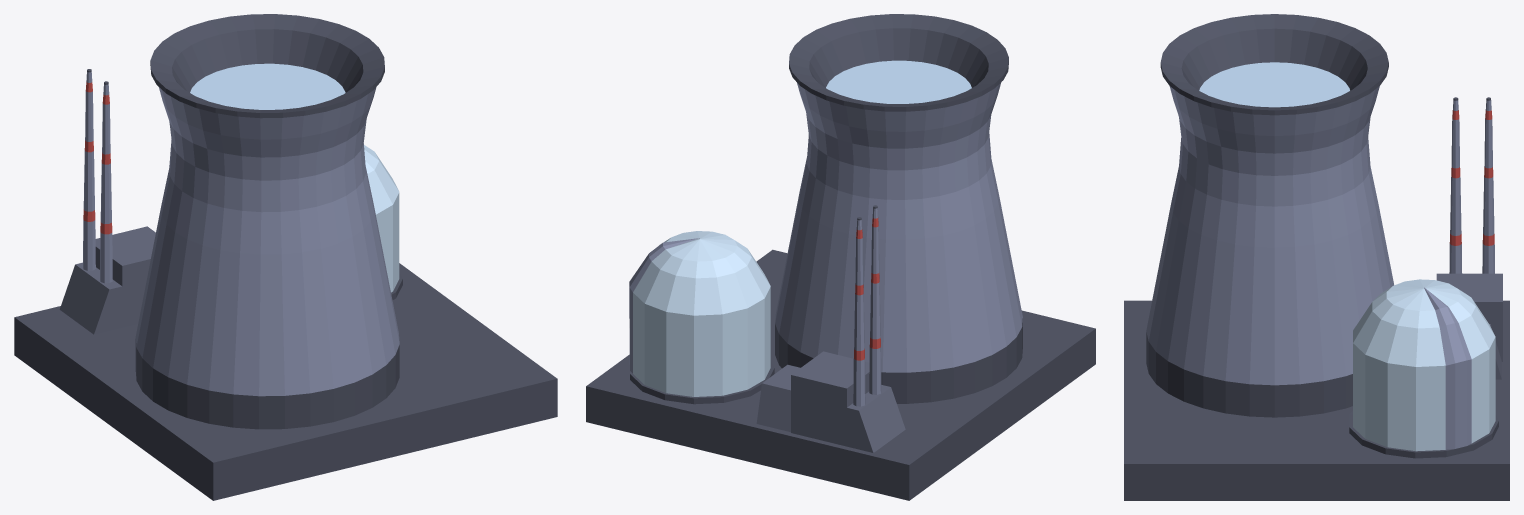
File: nuclearpowerplant.fbx
3 renders of one model, left to right at view 1: azimuth 30°, elevation 25°; view 2: azimuth 150°, elevation 25°; view 3: azimuth 270°, elevation 25°, orthographic. The views are drawn at different scales.
Parts seen in each view (by area): view 1: CoolingChamber, Base.001, SmallBuilding2, ReactorChamber, TallSpikyThing, TallSpikyThing.001; view 2: CoolingChamber, Base.001, ReactorChamber, SmallBuilding2, TallSpikyThing, TallSpikyThing.001, SmallBuilding; view 3: CoolingChamber, Base.001, ReactorChamber, SmallBuilding2, TallSpikyThing, TallSpikyThing.001.
Part boxes in pixels (x1,y1,x2,y2): CoolingChamber: (135, 14, 399, 429); Base.001: (14, 263, 557, 500); SmallBuilding2: (59, 226, 155, 334); ReactorChamber: (364, 145, 402, 300); TallSpikyThing: (83, 69, 95, 270); TallSpikyThing.001: (100, 81, 112, 283); CoolingChamber: (775, 14, 1022, 403); Base.001: (586, 249, 1095, 500); ReactorChamber: (629, 231, 774, 404); SmallBuilding2: (791, 351, 905, 452); TallSpikyThing: (853, 217, 865, 406); TallSpikyThing.001: (869, 205, 881, 394); SmallBuilding: (756, 364, 800, 432); CoolingChamber: (1146, 14, 1393, 417); Base.001: (1124, 300, 1509, 500); ReactorChamber: (1349, 279, 1498, 458); SmallBuilding2: (1436, 273, 1502, 361); TallSpikyThing: (1482, 97, 1494, 273); TallSpikyThing.001: (1449, 97, 1462, 273).
Bounding box in the file's own units: 200 × 193 × 200.
1 material, 1 textured.
